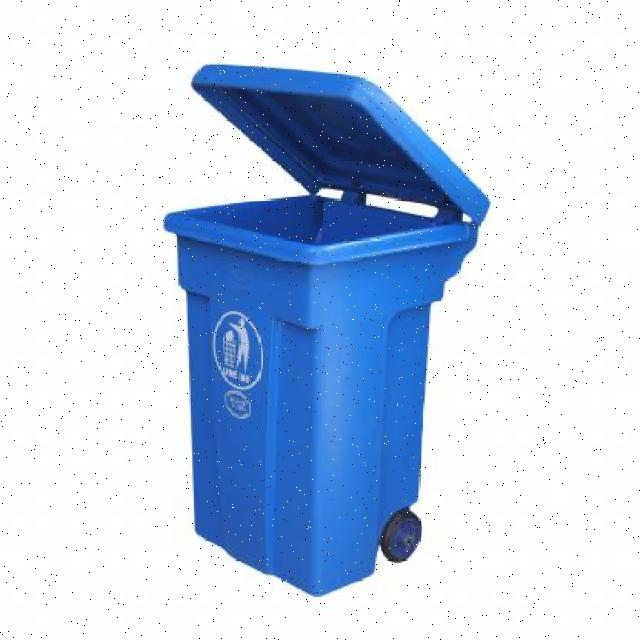garbage container: (137, 49, 516, 615)
